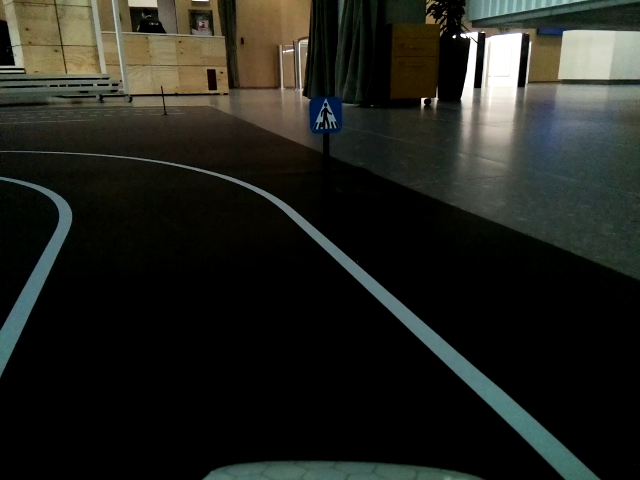pedestrians: (309, 97, 342, 133)
